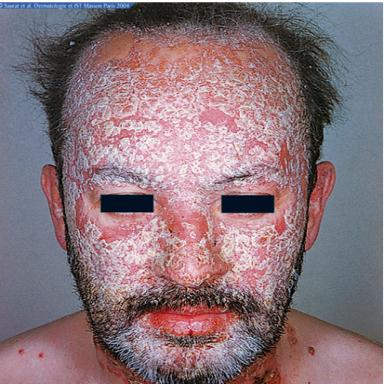Psoriasis: (62, 31, 308, 308), (133, 316, 245, 371)
